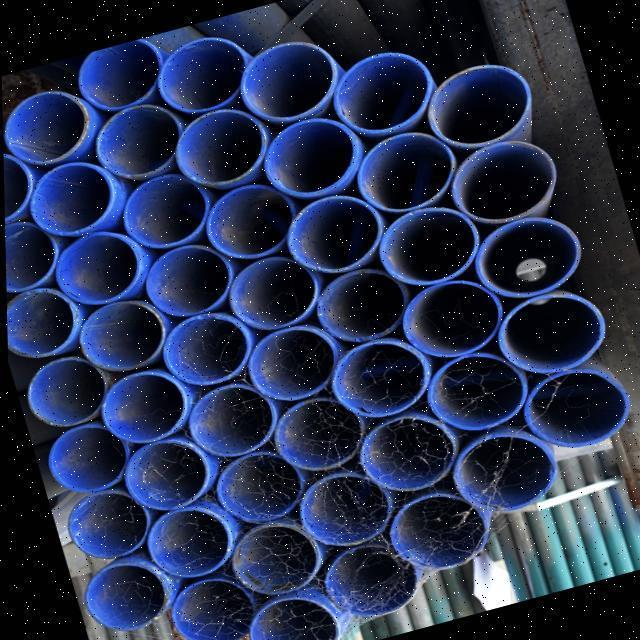pipe: (414, 52, 542, 156), (461, 204, 588, 308), (486, 279, 613, 383), (319, 42, 446, 144), (438, 129, 564, 231), (512, 354, 638, 456), (442, 418, 564, 520), (342, 119, 464, 219), (366, 194, 488, 294), (414, 340, 536, 439), (318, 327, 437, 428), (390, 266, 510, 366), (347, 402, 465, 500), (274, 184, 389, 282), (377, 480, 492, 578), (230, 31, 346, 128), (249, 110, 366, 206), (304, 258, 416, 352), (284, 460, 394, 555), (161, 100, 272, 194), (259, 383, 369, 477), (144, 28, 256, 120), (191, 174, 301, 267), (146, 302, 256, 394), (232, 316, 342, 408), (213, 508, 319, 602), (81, 93, 188, 185), (313, 533, 421, 624), (213, 248, 322, 338), (107, 165, 214, 256), (173, 372, 279, 463), (130, 494, 234, 586), (107, 428, 213, 518), (15, 153, 120, 243), (39, 222, 144, 312), (86, 360, 191, 449), (130, 236, 236, 324), (200, 441, 304, 529), (68, 548, 170, 636), (66, 291, 169, 378), (65, 34, 168, 120), (12, 346, 112, 433), (54, 478, 154, 564), (34, 412, 132, 499), (1, 82, 95, 170), (162, 566, 262, 640), (5, 280, 82, 362), (237, 583, 342, 640), (3, 211, 62, 297), (3, 144, 36, 229)
